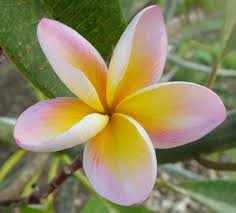frangipani: (14, 5, 229, 206)
